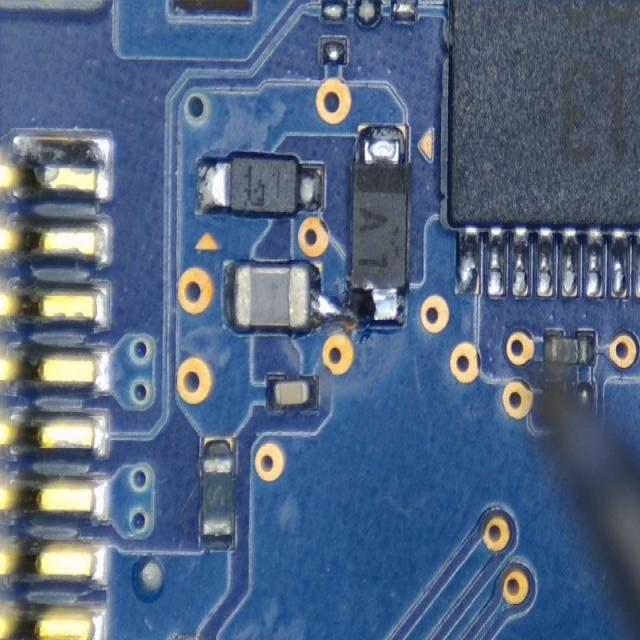Short_circuit: (288, 261, 397, 332)
